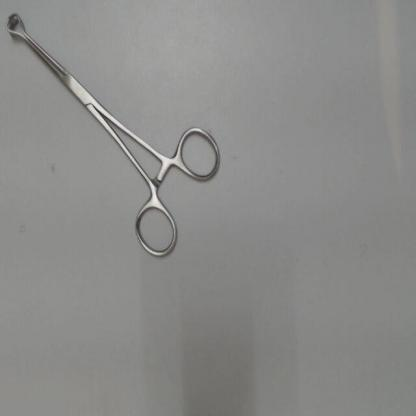Babcock Tissue Forceps: (0, 10, 224, 266)
